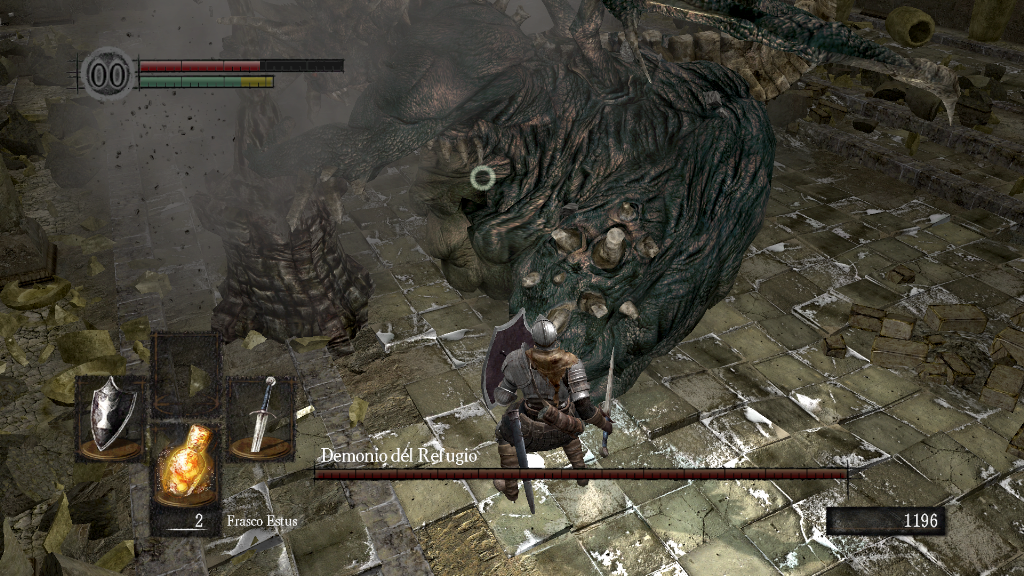asylumDemon: (190, 2, 971, 434)
bossHP: (314, 469, 847, 479)
health: (138, 58, 343, 71)
humanity: (80, 45, 136, 102)
player: (480, 308, 618, 503)
souls: (825, 506, 945, 536)
stamina: (138, 74, 274, 88)
